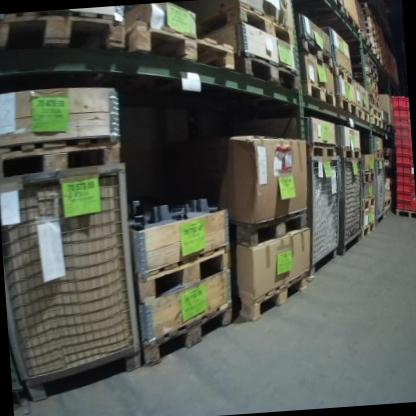pallet: (125, 10, 237, 85), (0, 7, 130, 66), (140, 296, 240, 368), (0, 133, 130, 186), (134, 243, 238, 306), (195, 0, 296, 54), (235, 267, 315, 324), (229, 207, 310, 249), (236, 47, 300, 93), (296, 32, 336, 72), (299, 74, 339, 109), (290, 0, 347, 21), (300, 136, 339, 165), (339, 7, 365, 40), (337, 94, 360, 120), (333, 63, 355, 90), (339, 142, 359, 163), (360, 218, 377, 238), (395, 206, 416, 221), (357, 105, 369, 128), (358, 167, 375, 183), (362, 194, 376, 211), (380, 193, 395, 208), (382, 202, 393, 219), (373, 149, 387, 159)
small_load_carrier: (392, 96, 407, 110), (394, 145, 410, 157), (396, 191, 410, 203), (395, 156, 410, 167), (396, 174, 411, 185), (396, 202, 411, 212), (395, 109, 408, 120), (395, 136, 409, 146), (394, 128, 409, 137), (395, 167, 411, 175), (395, 119, 408, 128), (411, 190, 416, 213), (396, 184, 412, 191), (409, 176, 415, 186)
stillage: (0, 154, 150, 408), (296, 151, 350, 282), (333, 153, 371, 259), (370, 155, 393, 228)
